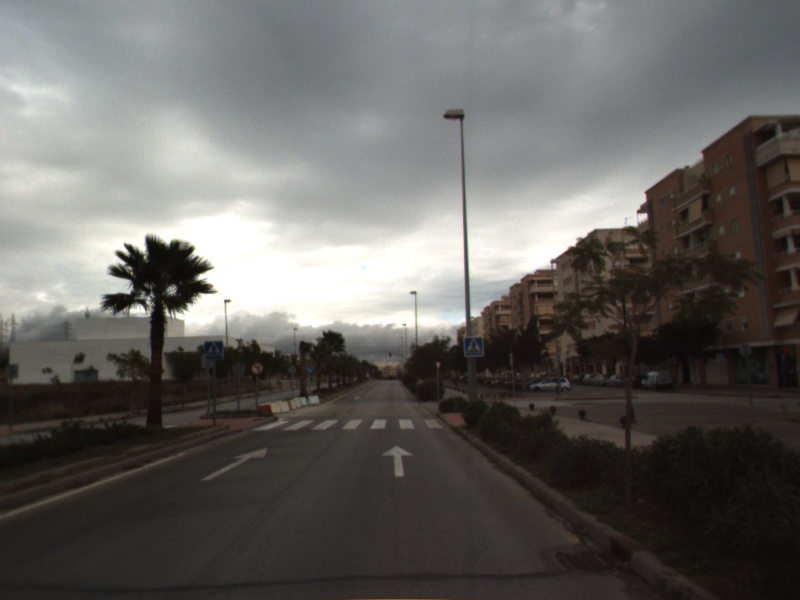STRAIGHT: (199, 445, 270, 482), (380, 443, 416, 478)
